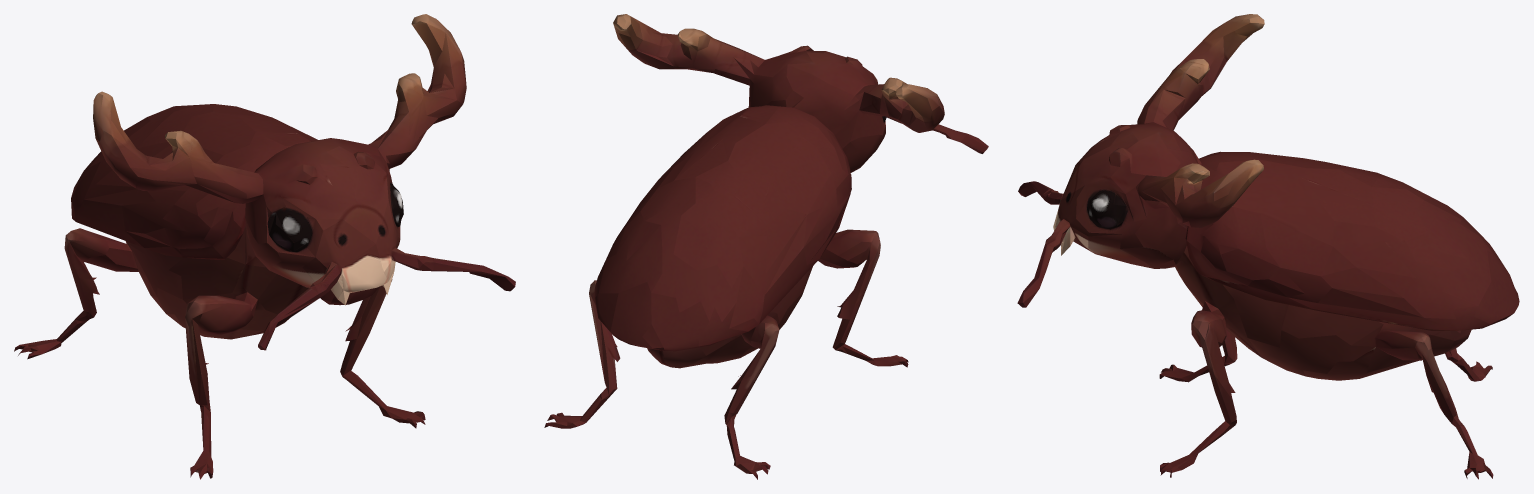
File: stag-beetle.glb
The picture shows the model from 3 angles, left to right: view 1: azimuth 30°, elevation 25°; view 2: azimuth 150°, elevation 25°; view 3: azimuth 270°, elevation 25°; orthographic projection. The views are drawn at different scales.
Size of the model in its own units: 1.47 by 1.41 by 1.9.
1 material, 1 textured.
